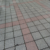zebra: (1, 2, 49, 46)
